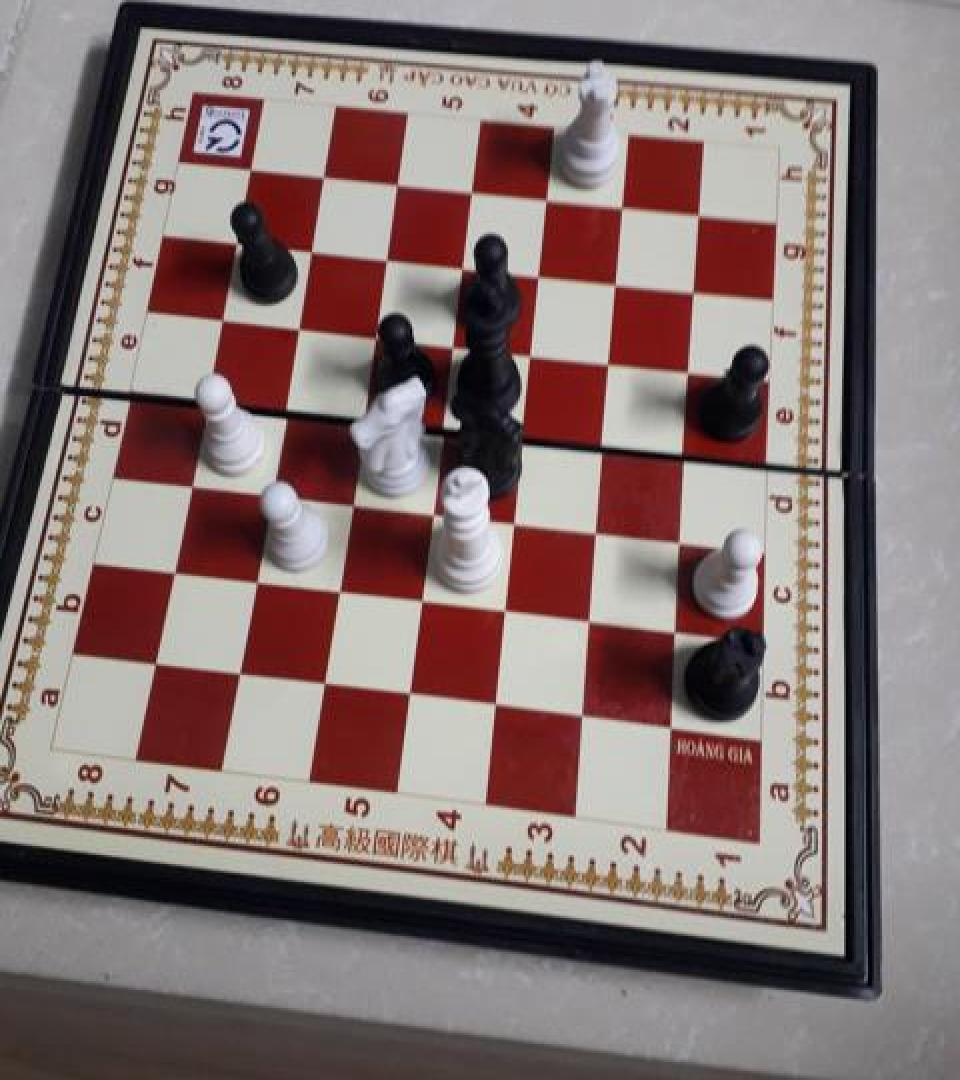xcorner: (307, 158, 337, 193), (224, 654, 254, 688), (309, 666, 339, 700), (395, 676, 425, 710), (482, 687, 512, 721), (569, 698, 599, 732), (658, 708, 688, 742), (157, 552, 187, 586), (240, 562, 270, 596), (323, 572, 353, 606), (407, 582, 437, 616), (491, 593, 521, 627), (577, 603, 607, 637), (663, 613, 693, 647), (254, 474, 284, 508), (500, 502, 530, 536), (584, 512, 614, 546), (668, 521, 698, 555), (190, 380, 220, 414), (269, 389, 299, 423), (348, 398, 378, 432), (428, 407, 458, 441), (509, 416, 539, 450), (590, 425, 620, 459), (672, 434, 702, 468), (205, 300, 235, 334), (282, 309, 312, 343), (360, 317, 390, 351), (438, 325, 468, 359), (517, 334, 547, 368), (596, 342, 626, 376), (677, 351, 707, 385), (220, 224, 250, 258), (295, 232, 325, 266), (371, 239, 401, 273), (448, 248, 478, 282), (525, 255, 555, 289), (602, 263, 632, 297), (681, 271, 711, 305), (234, 150, 264, 184), (382, 166, 412, 200), (457, 173, 487, 207), (532, 181, 562, 215), (608, 188, 638, 222), (685, 196, 715, 230), (139, 645, 169, 678), (174, 465, 204, 498), (336, 483, 366, 516), (418, 493, 448, 526)
